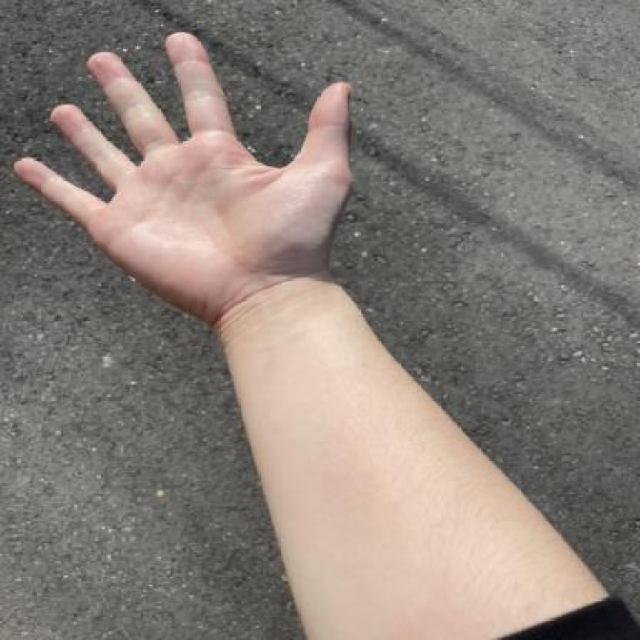hand: (2, 19, 376, 312)
